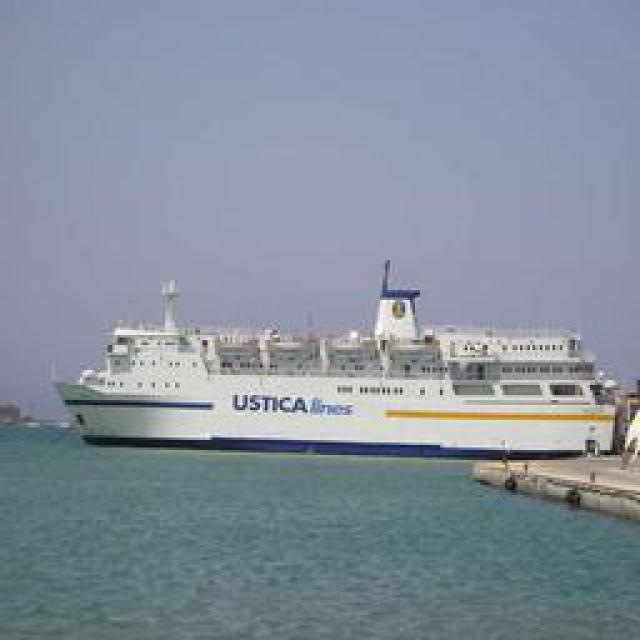Ship: (37, 260, 627, 460)
